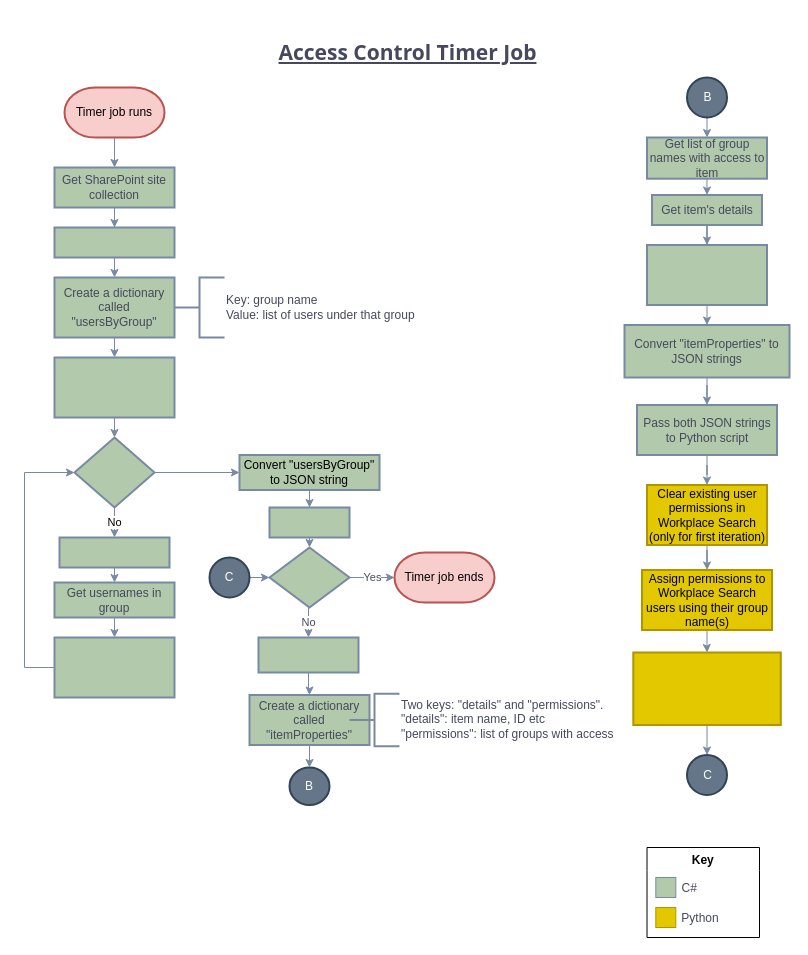
Some shapes in this 808 by 955 pixel diagram are drawn without their labels. The shapes that lost their labels are listed below. From the top down, each one's box as (x1, y1, x2, y2) in pixels, then its label:
(53, 226, 175, 258): Get website
(646, 244, 768, 306): Add item's details and list of groups to "itemProperties"
(53, 356, 175, 418): Get all SP groups
(73, 436, 155, 508): End of groups?
(268, 506, 350, 538): Get SP list
(58, 536, 170, 568): Get group name
(268, 546, 350, 608): End of list?
(53, 636, 175, 698): Add group name and usernames to "usersByGroup"
(257, 636, 359, 673): Get list item
(632, 651, 781, 726): Index document to Workplace Search with permissions named after groups
